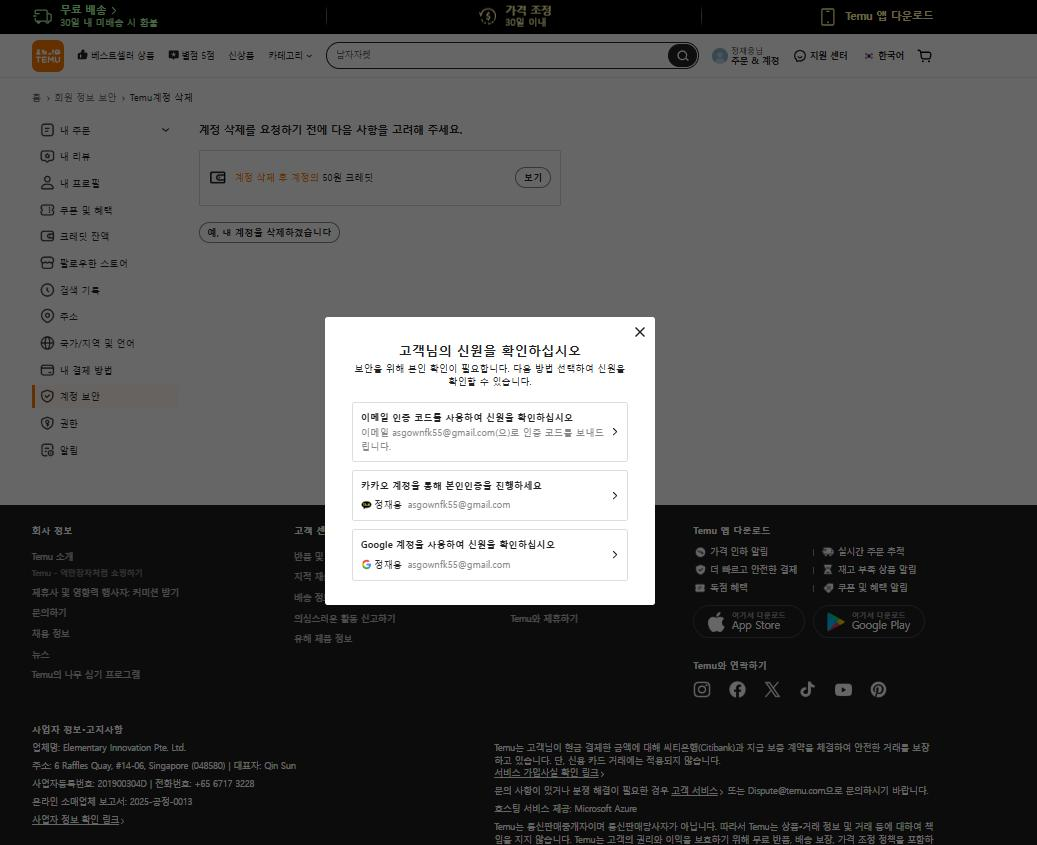button: (359, 406, 624, 455), (359, 534, 625, 579), (360, 471, 626, 513), (486, 0, 610, 25), (821, 4, 968, 25), (195, 228, 338, 249), (36, 0, 154, 20), (36, 333, 145, 354), (40, 196, 121, 223), (24, 301, 96, 331), (34, 111, 104, 140), (24, 262, 136, 280), (43, 358, 130, 381), (26, 280, 120, 301), (33, 171, 104, 195), (36, 444, 91, 473), (34, 238, 125, 254), (84, 44, 150, 66), (40, 385, 108, 406), (790, 52, 865, 68), (718, 49, 771, 69), (625, 324, 674, 345), (39, 148, 100, 162), (171, 48, 216, 65), (873, 52, 929, 65), (40, 413, 76, 431), (225, 46, 259, 61), (500, 175, 540, 185)
popup: (325, 315, 655, 608)
